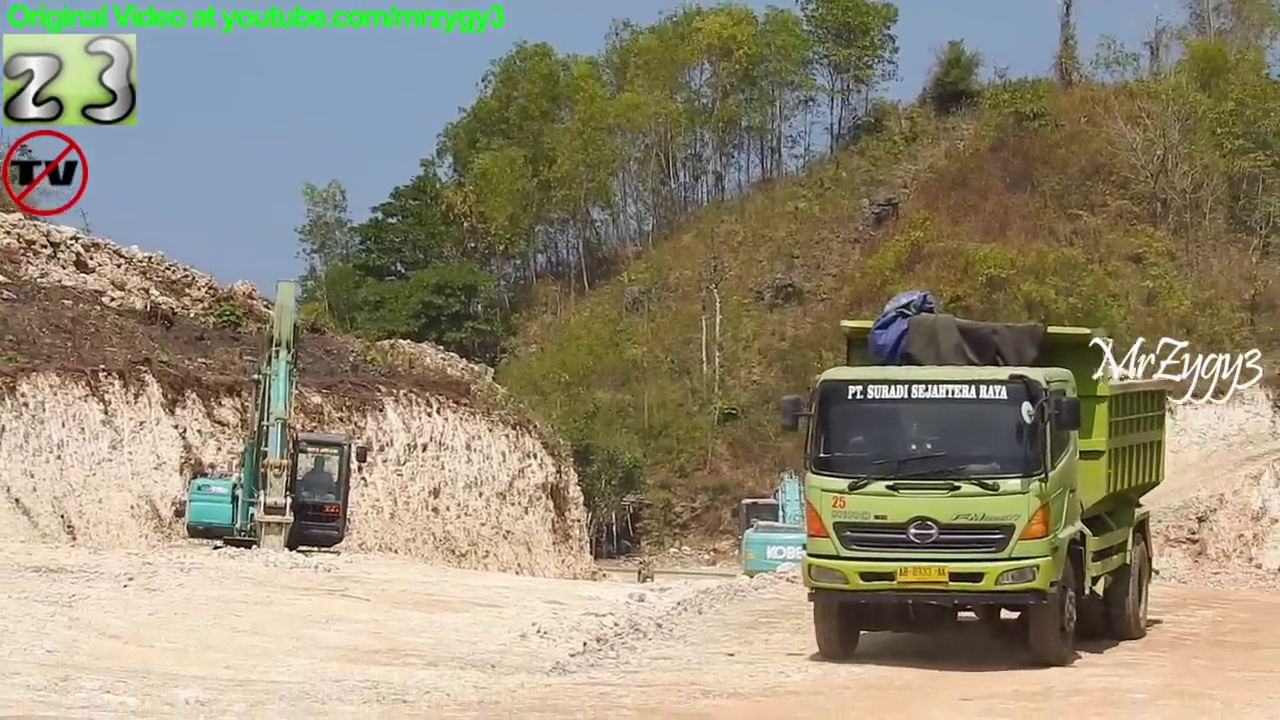excavator: (178, 274, 374, 595), (726, 464, 862, 606)
truck: (771, 312, 1179, 676)
